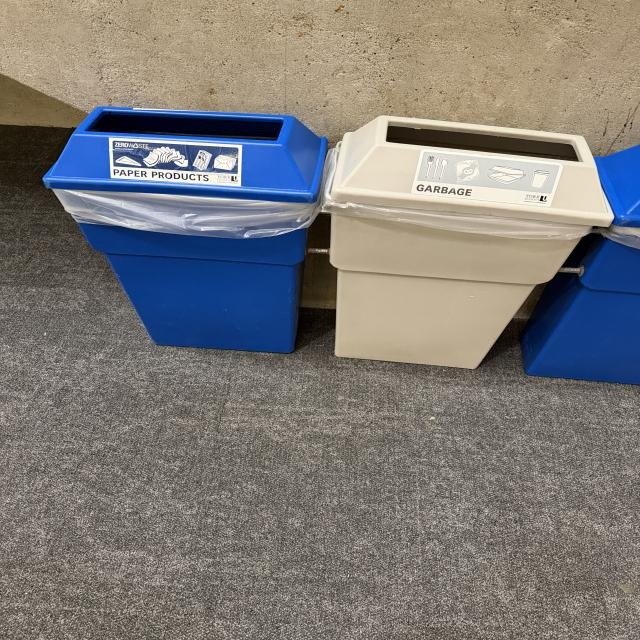Dustbin: (40, 107, 640, 385)
